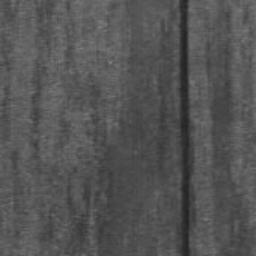Scratches: (179, 0, 191, 256)
